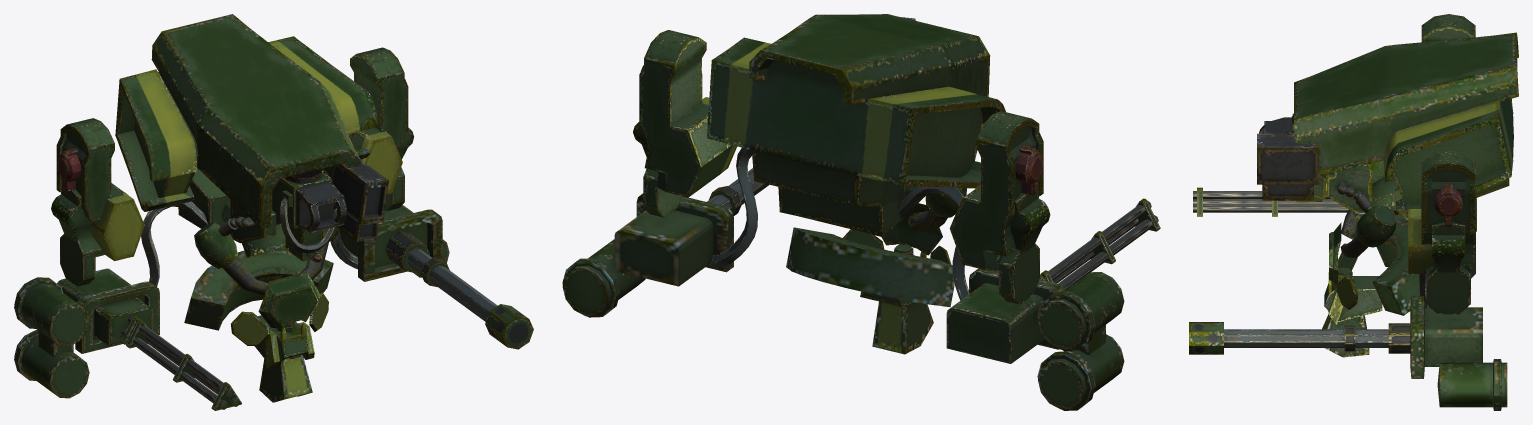
Rendered from boss_20191029.fbx.
3 views of the same model, side by side, from view 1: azimuth 30°, elevation 25°; view 2: azimuth 150°, elevation 25°; view 3: azimuth 270°, elevation 25° (orthographic). The views are drawn at different scales.
Visible parts, largest first — view 1: boss_27finish:boss; view 2: boss_27finish:boss; view 3: boss_27finish:boss.
Part boxes in pixels (x1,y1,x2,y2): boss_27finish:boss: (14, 14, 533, 410); boss_27finish:boss: (562, 14, 1160, 410); boss_27finish:boss: (1189, 14, 1518, 410).
Bounding box in the file's own units: 151 × 103 × 103.
